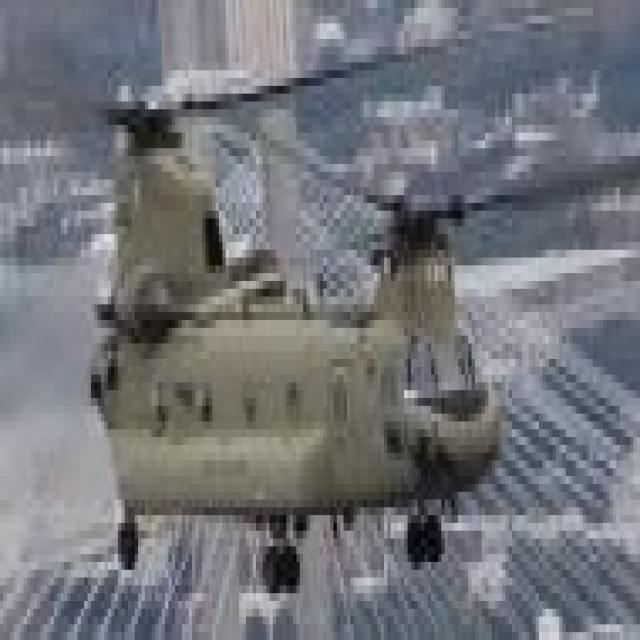Helicopter: (25, 90, 497, 558)
